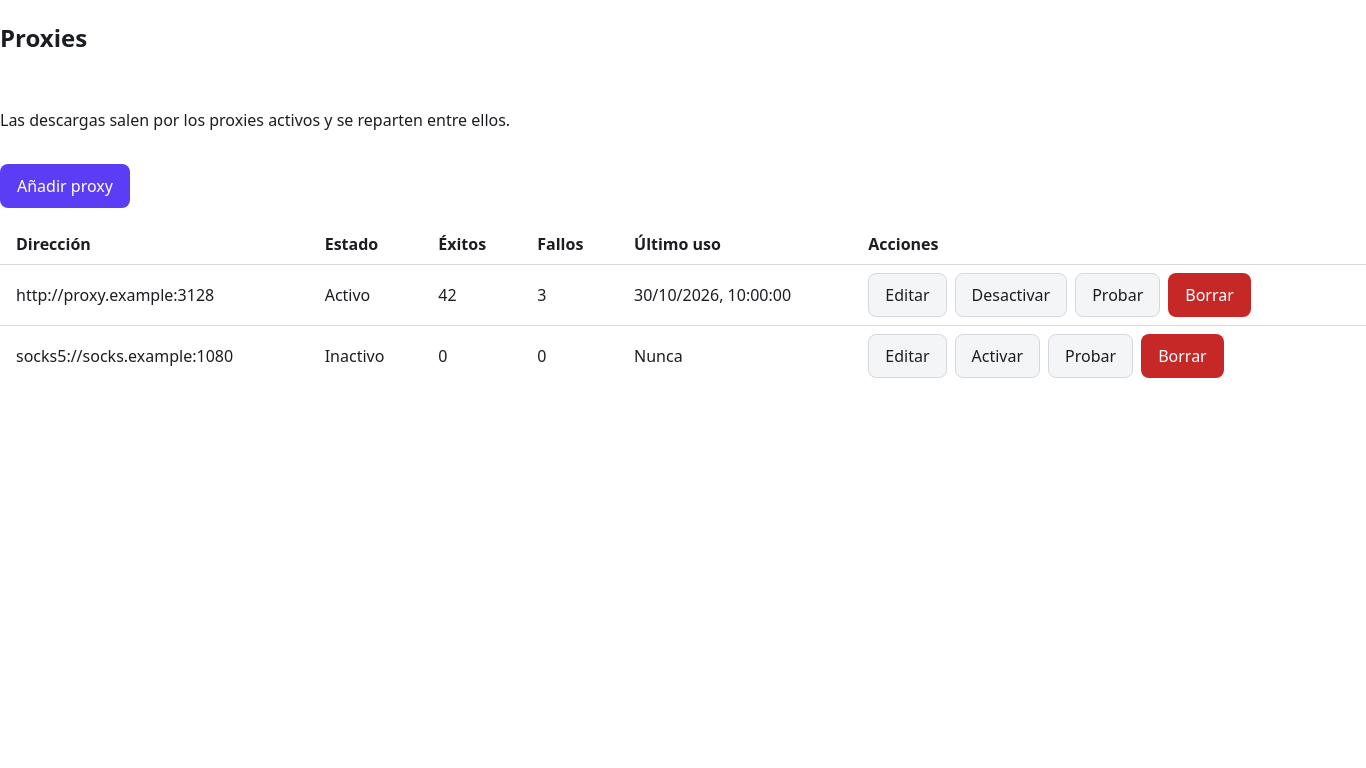
it: ProxiesView › edita un proxy con sus datos ya cargados
Click the button "Editar" in the row of "socks5://socks.example:1080" at [907, 356], box [868,334,946,378]
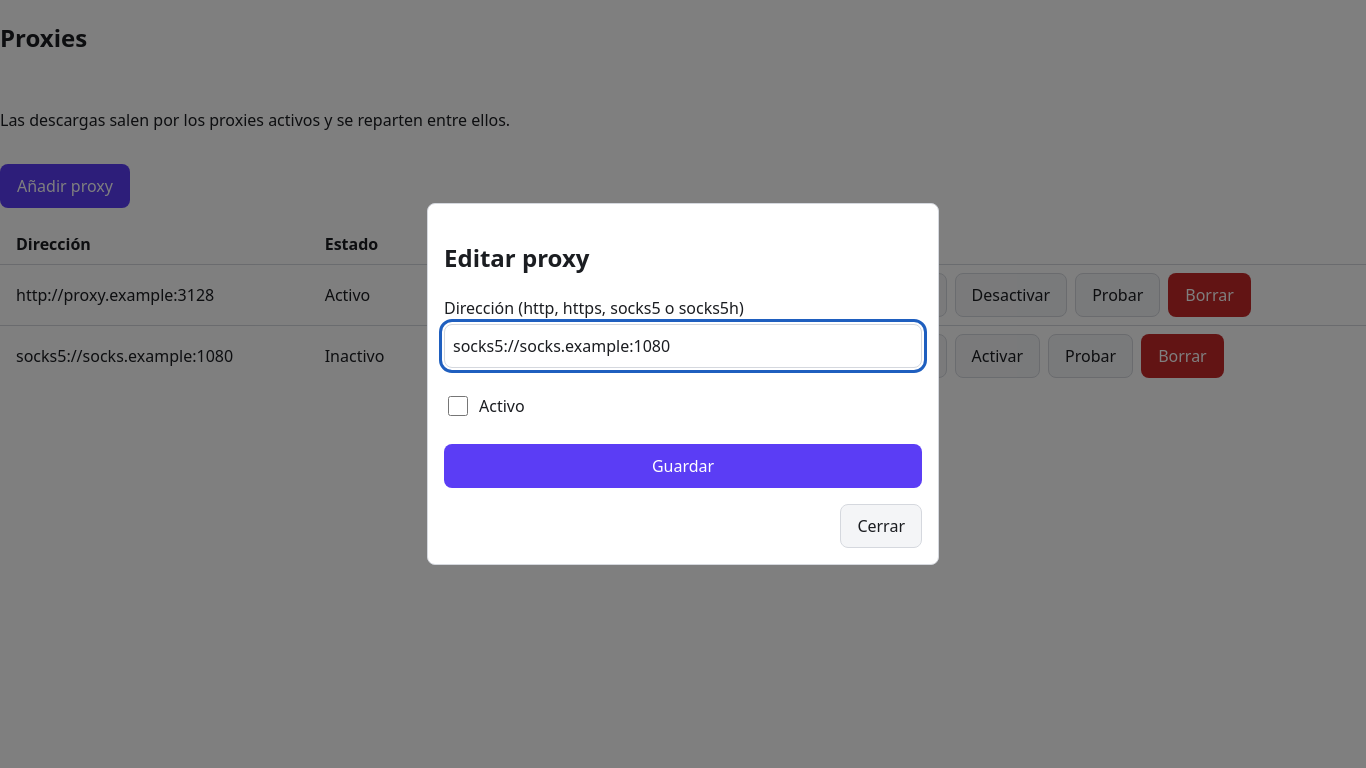
Check: the heading "Editar proxy" is shown, box [444,241,590,274]
Check: the field labelled "Dirección (http, https, socks5 o socks5h)" holds "socks5://socks.example:1080", box [444,324,922,368]
Click the checkbox labelled "Activo" at [458, 406], box [448,396,468,416]
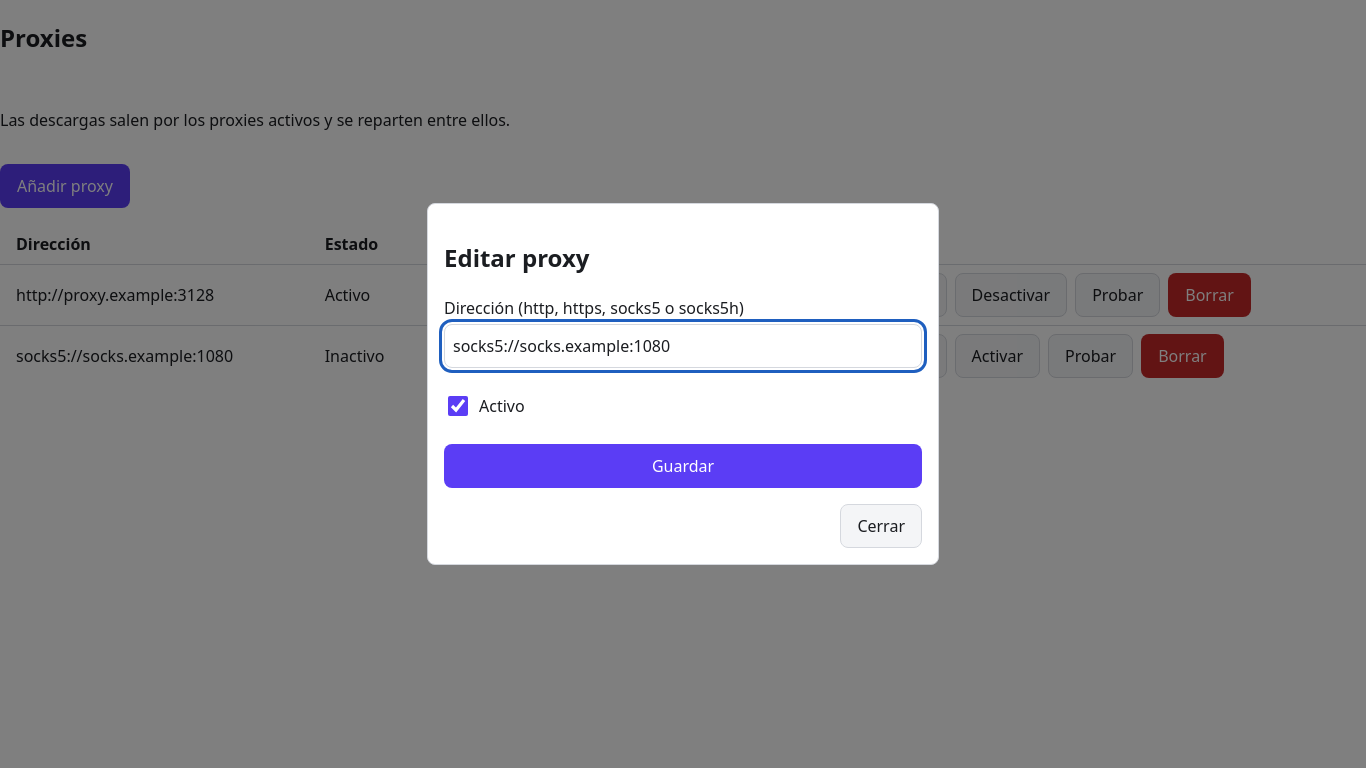
Submit the form named "proxy", box [444,296,922,488]
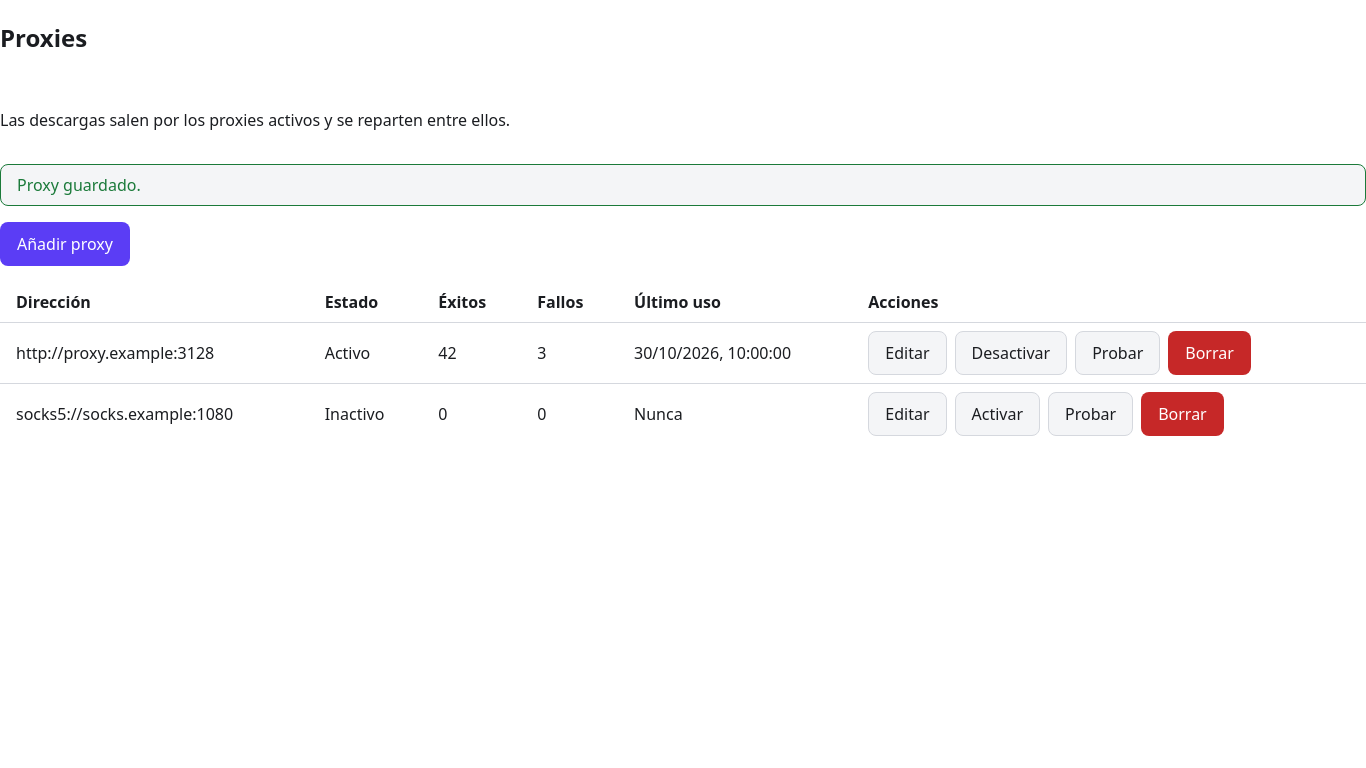
Check: the message "Proxy guardado." is shown, box [0,164,1365,206]
